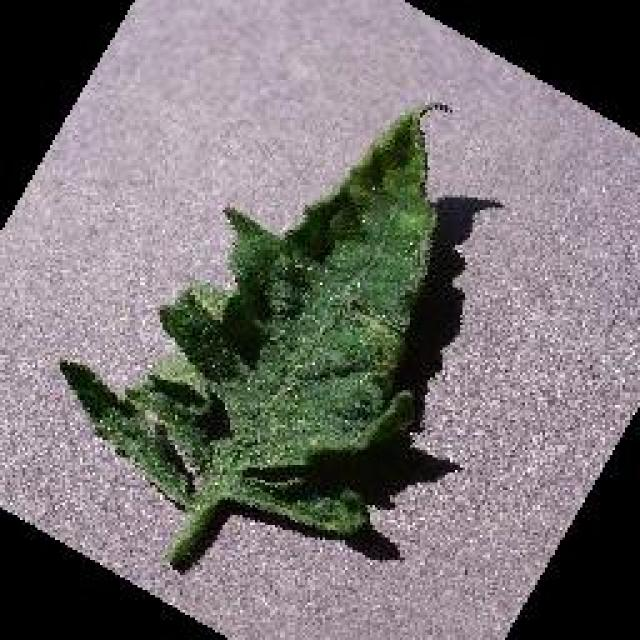Tomato___Tomato_mosaic_virus: (60, 105, 435, 562)
